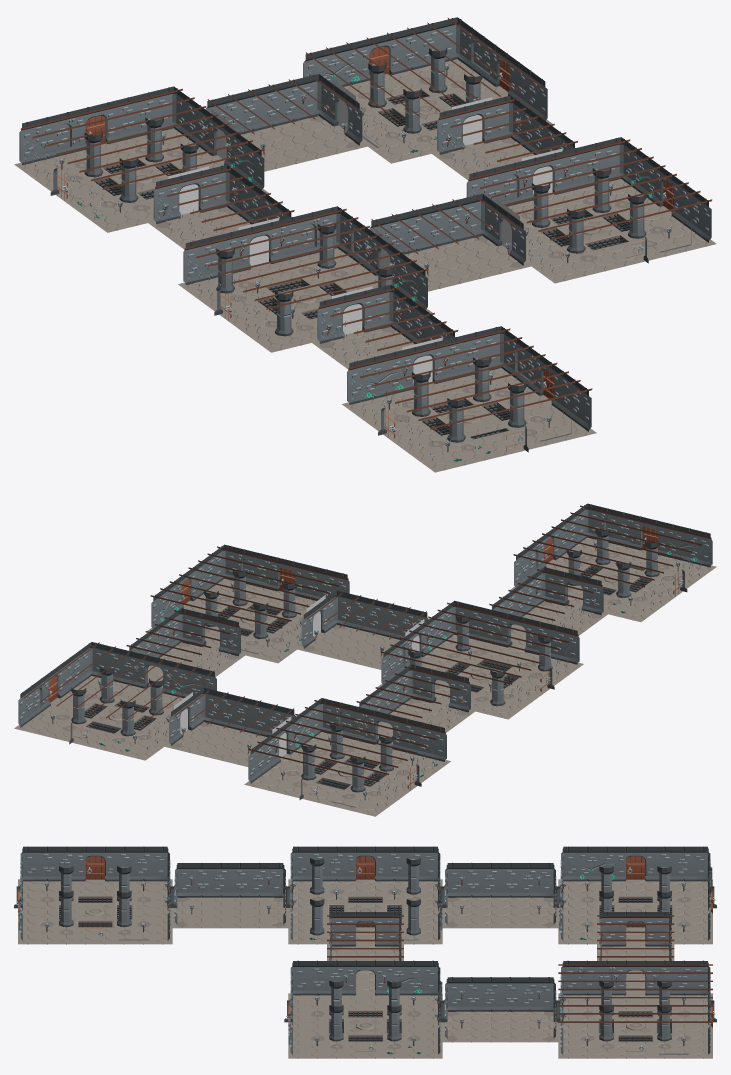
File: level41.glb
3 renders of one model, top to bottom at view 1: azimuth 30°, elevation 25°; view 2: azimuth 150°, elevation 25°; view 3: azimuth 270°, elevation 25°, orthographic. The views are drawn at different scales.
Visible parts, largest first — view 1: floor_tile_extralarge_grates (×5), wall.017 (×3), wall_doorway.005 (×4), floor_tile_large.001 (×4), wall.016 (×2), wall_arched.003 (×2), wall.025 (×2), wall_cracked.003 (×2), wall.026 (×2), wall_doorway.011 (×2), wall_doorway.013 (×2), wall_corner.012 (×2) (+41 smaller); view 2: floor_tile_extralarge_grates (×5), wall.019 (×4), wall.018 (×2), floor_tile_large.001 (×3), wall.027 (×2), wall_arched.003 (×2), wall.026 (×2), wall_cracked.004 (×2), wall_doorway.013 (×2), wall_corner.011 (×2), wall_doorway.006 (×2), wall_corner.010 (×2) (+40 smaller); view 3: floor_tile_extralarge_grates (×5), floor_tile_large.003 (×5), wall.016 (×2), wall.017 (×2), wall_corner.009 (×4), floor_tile_large.002 (×3), floor_tile_large.013 (×3), floor_tile_large.012 (×3), floor_tile_large.001 (×3), floor_tile_large.017 (×3), floor_tile_large.018 (×3), floor_tile_large.014 (×3) (+57 smaller).
Boxes of the visible parts, bbox=[...] form: floor_tile_extralarge_grates (×5): bbox=[78, 86, 652, 445]; wall.017 (×3): bbox=[221, 87, 426, 344]; wall_doorway.005 (×4): bbox=[169, 80, 517, 258]; floor_tile_large.001 (×4): bbox=[171, 122, 514, 267]; wall.016 (×2): bbox=[261, 77, 467, 248]; wall_arched.003 (×2): bbox=[35, 24, 492, 161]; wall.025 (×2): bbox=[400, 21, 702, 236]; wall_cracked.003 (×2): bbox=[319, 41, 655, 201]; wall.026 (×2): bbox=[116, 58, 538, 141]; wall_doorway.011 (×2): bbox=[360, 31, 679, 219]; wall_doorway.013 (×2): bbox=[76, 41, 515, 151]; wall_corner.012 (×2): bbox=[302, 74, 493, 241]; floor_tile_extralarge_grates (×5): bbox=[66, 560, 664, 794]; wall.019 (×4): bbox=[153, 601, 415, 737]; wall.018 (×2): bbox=[216, 593, 383, 732]; floor_tile_large.001 (×3): bbox=[178, 604, 588, 747]; wall.027 (×2): bbox=[104, 645, 276, 778]; wall_arched.003 (×2): bbox=[25, 547, 270, 721]; wall.026 (×2): bbox=[63, 563, 336, 694]; wall_cracked.004 (×2): bbox=[169, 661, 314, 750]; wall_doorway.013 (×2): bbox=[44, 556, 303, 708]; wall_corner.011 (×2): bbox=[195, 590, 350, 726]; wall_doorway.006 (×2): bbox=[193, 611, 457, 709]; wall_corner.010 (×2): bbox=[172, 608, 424, 702]; floor_tile_extralarge_grates (×5): bbox=[56, 895, 674, 1042]; floor_tile_large.003 (×5): bbox=[249, 903, 654, 1034]; wall.016 (×2): bbox=[500, 863, 539, 1011]; wall.017 (×2): bbox=[462, 862, 500, 1011]; wall_corner.009 (×4): bbox=[384, 862, 671, 1015]; floor_tile_large.002 (×3): bbox=[211, 903, 519, 1034]; floor_tile_large.013 (×3): bbox=[288, 903, 712, 1058]; floor_tile_large.012 (×3): bbox=[346, 879, 712, 1058]; floor_tile_large.001 (×3): bbox=[172, 903, 558, 1034]; floor_tile_large.017 (×3): bbox=[288, 928, 712, 1058]; floor_tile_large.018 (×3): bbox=[288, 879, 712, 1058]; floor_tile_large.014 (×3): bbox=[404, 903, 654, 1034].
Bounding box in the file's own units: 44.86 × 4.98 × 72.86.
Materials: 15 (15 with a texture image).
